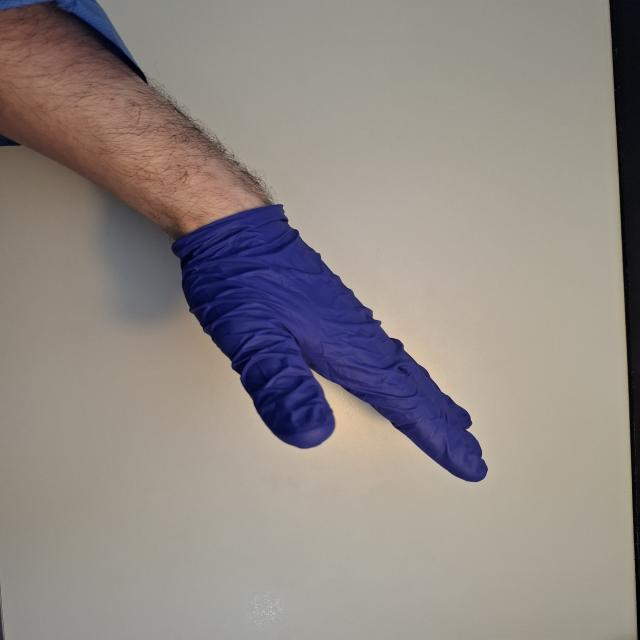glove_on: (166, 192, 492, 484)
